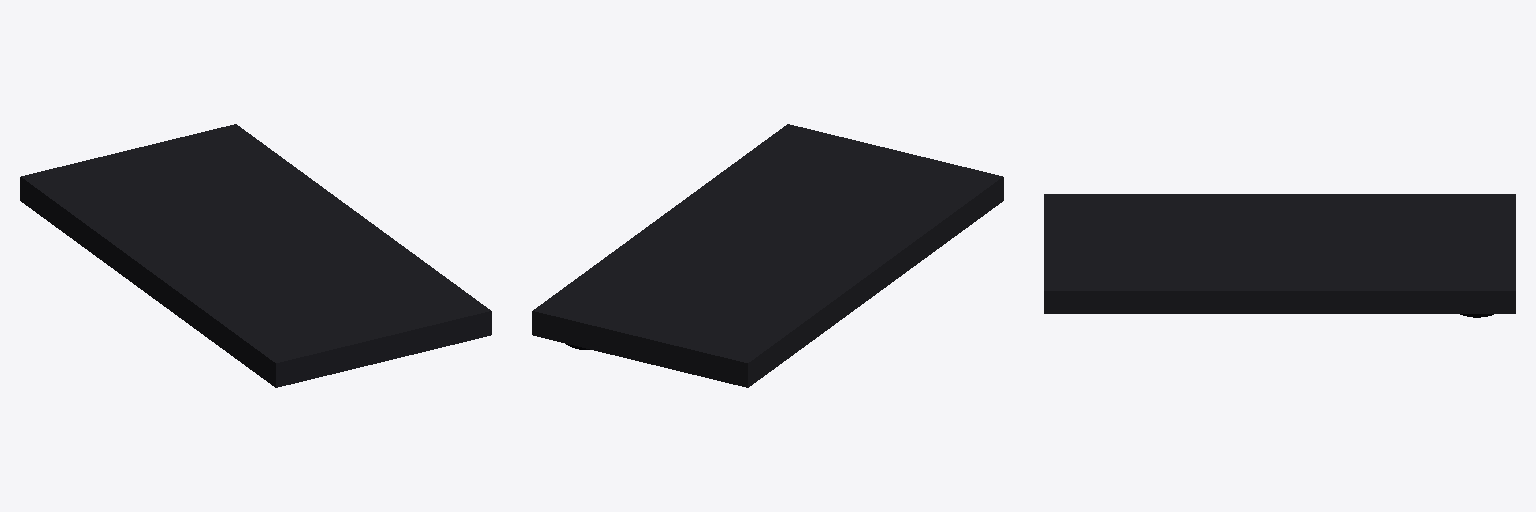
URDF robot description (iphone_14):
<?xml version="1.0"?>
<!-- iPhone 14: generated by imuninn from Apple's dimensional drawings (iphone-frames dataset). Frames: device = display centre on the front glass (x right, y top, z out of the screen); cam_*_optical = OpenCV axes. Geometry and mass are approximate. -->
<robot name="iphone_14">
  <material name="iphone_body">
    <color rgba="0.15 0.15 0.17 1" />
  </material>
  <material name="iphone_lens">
    <color rgba="0.05 0.05 0.06 1" />
  </material>
  <link name="device">
    <visual name="body">
      <origin xyz="0 0 -0.0039" rpy="0 0 0" />
      <geometry>
        <box size="0.07152 0.14671 0.0078" />
      </geometry>
      <material name="iphone_body" />
    </visual>
    <collision name="body">
      <origin xyz="0 0 -0.0039" rpy="0 0 0" />
      <geometry>
        <box size="0.07152 0.14671 0.0078" />
      </geometry>
    </collision>
    <visual name="lens_ultra_wide">
      <origin xyz="0.02388 0.061475 -0.00951" rpy="0 0 0" />
      <geometry>
        <cylinder radius="0.00719" length="0.00342" />
      </geometry>
      <material name="iphone_lens" />
    </visual>
    <visual name="lens_main">
      <origin xyz="0.01113 0.048725 -0.00951" rpy="0 0 0" />
      <geometry>
        <cylinder radius="0.00719" length="0.00342" />
      </geometry>
      <material name="iphone_lens" />
    </visual>
    <inertial>
      <origin xyz="0 0 -0.0039" rpy="0 0 0" />
      <mass value="0.188" />
      <inertia ixx="0.00033816" ixy="0" ixz="0" iyy="8.10899e-05" iyz="0" izz="0.000417343" />
    </inertial>
  </link>
  <link name="magsafe" />
  <joint name="device_to_magsafe" type="fixed">
    <parent link="device" />
    <child link="magsafe" />
    <origin xyz="0 5e-06 -0.0078" rpy="3.14159265 0 3.14159265" />
  </joint>
  <link name="cam_ultra_wide_optical" />
  <joint name="device_to_cam_ultra_wide_optical" type="fixed">
    <parent link="device" />
    <child link="cam_ultra_wide_optical" />
    <origin xyz="0.02388 0.061475 -0.01122" rpy="3.14159265 0 -1.57079633" />
  </joint>
  <link name="cam_main_optical" />
  <joint name="device_to_cam_main_optical" type="fixed">
    <parent link="device" />
    <child link="cam_main_optical" />
    <origin xyz="0.01113 0.048725 -0.01122" rpy="3.14159265 0 -1.57079633" />
  </joint>
  <link name="cam_front_optical" />
  <joint name="device_to_cam_front_optical" type="fixed">
    <parent link="device" />
    <child link="cam_front_optical" />
    <origin xyz="0 0.068035 0" rpy="0 0 1.57079633" />
  </joint>
  <link name="imu" />
  <joint name="device_to_imu" type="fixed">
    <parent link="device" />
    <child link="imu" />
    <origin xyz="0 0 0" rpy="0 0 0" />
  </joint>
</robot>

--- Facts derived from the render (not from the file) ---
The picture shows the robot from 3 angles, left to right: view 1: azimuth 30°, elevation 25°; view 2: azimuth 150°, elevation 25°; view 3: azimuth 270°, elevation 25°; orthographic projection.
Robot: iphone_14 — 6 links, 5 joints (5 fixed); root link device; default pose: every joint at zero.
Visible links, largest first — view 1: device; view 2: device; view 3: device.
Boxes of the visible links, x1,y1,x2,y2 form: device: (20, 124, 491, 387); device: (532, 124, 1003, 387); device: (1044, 194, 1515, 317).
Size in the robot's own frame: 0.0715 by 0.1467 by 0.0112 metres.
Geometry: primitives only (box / cylinder / sphere), no mesh files.
